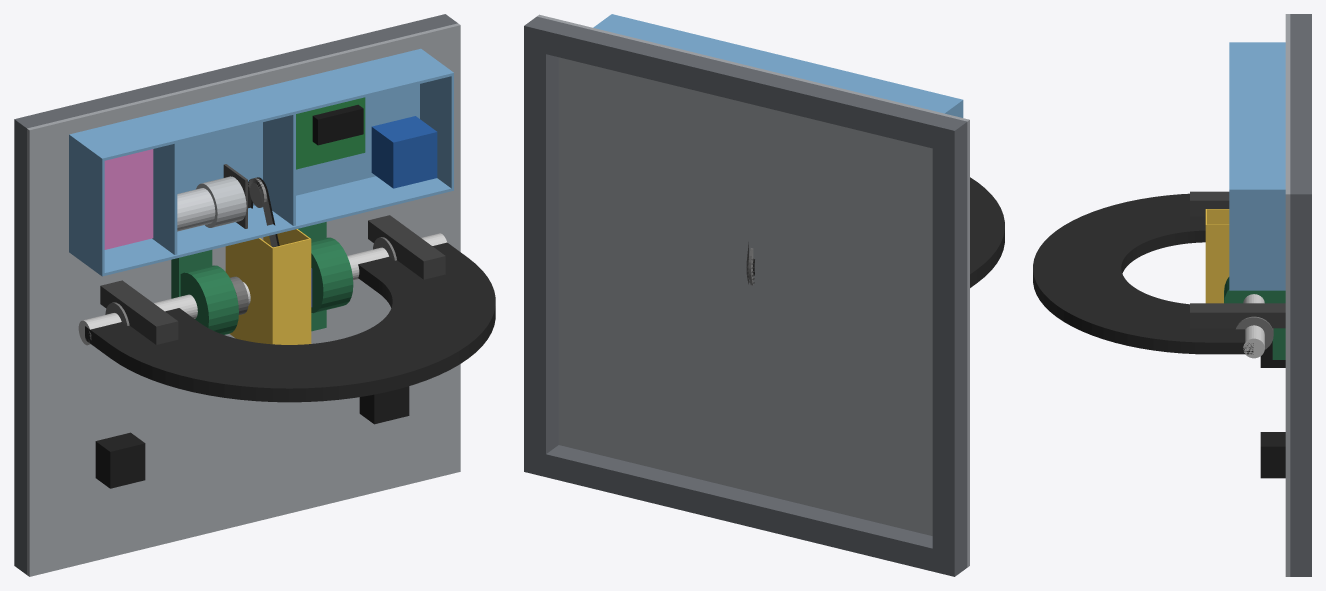
Rendered from PARKFNB_V2_Assembly_3D.obj.
The picture shows the model from 3 angles, left to right: view 1: azimuth 30°, elevation 25°; view 2: azimuth 150°, elevation 25°; view 3: azimuth 270°, elevation 25°; orthographic projection. The views are drawn at different scales.
Visible parts, largest first — view 1: deck_plate, enclosure, arch_rubber, frame, chain_guard, bearing_ucp205, enclosure_divider, end_stop, battery_3s2p, ibt2_driver, rest_pad, controller_pcb (+5 smaller); view 2: deck_plate, frame, enclosure, arch_rubber; view 3: arch_rubber, enclosure, frame, deck_plate, end_stop, chain_guard, rest_pad, bearing_ucp205, shaft_25, arch_clamp.
Part boxes in pixels (x1,y1,x2,y2): deck_plate: [27, 23, 460, 576]; enclosure: [69, 48, 453, 276]; arch_rubber: [85, 242, 495, 402]; frame: [14, 14, 457, 574]; chain_guard: [225, 229, 311, 344]; bearing_ucp205: [171, 222, 353, 334]; enclosure_divider: [152, 114, 295, 254]; end_stop: [100, 215, 445, 344]; battery_3s2p: [104, 149, 153, 249]; ibt2_driver: [371, 116, 437, 188]; rest_pad: [95, 386, 409, 488]; controller_pcb: [296, 97, 365, 169]; deck_plate: [537, 14, 969, 567]; frame: [524, 16, 967, 576]; enclosure: [593, 14, 963, 117]; arch_rubber: [970, 177, 1004, 287]; arch_rubber: [1033, 193, 1253, 354]; enclosure: [1229, 42, 1285, 290]; frame: [1290, 14, 1311, 576]; deck_plate: [1285, 14, 1290, 576]; end_stop: [1190, 191, 1285, 328]; chain_guard: [1205, 209, 1229, 303]; rest_pad: [1260, 341, 1285, 478]; bearing_ucp205: [1224, 277, 1285, 359]; shaft_25: [1243, 294, 1264, 358]; arch_clamp: [1235, 316, 1273, 349].
Size of the model in its own units: 490 by 485 by 320.
